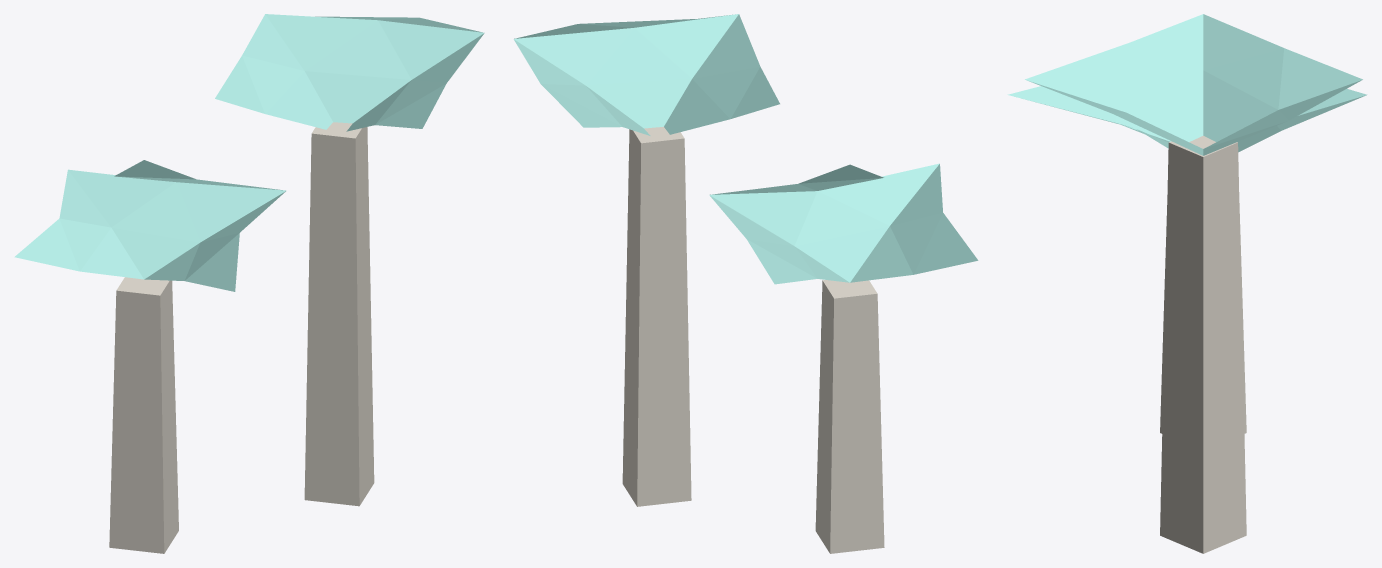
File: glowcap_v03.glb
3 views of the same model, side by side, from view 1: azimuth 30°, elevation 25°; view 2: azimuth 150°, elevation 25°; view 3: azimuth 270°, elevation 25° (orthographic). The views are drawn at different scales.
Parts seen in each view (by area): view 1: lod0; view 2: lod0; view 3: lod0.
Boxes of the visible parts, bbox=[...] form: lod0: bbox=[14, 14, 484, 553]; lod0: bbox=[513, 14, 978, 553]; lod0: bbox=[1007, 14, 1367, 553].
Size of what is drawn, in the model's own units: 0.3374 by 0.3242 by 0.2077.
